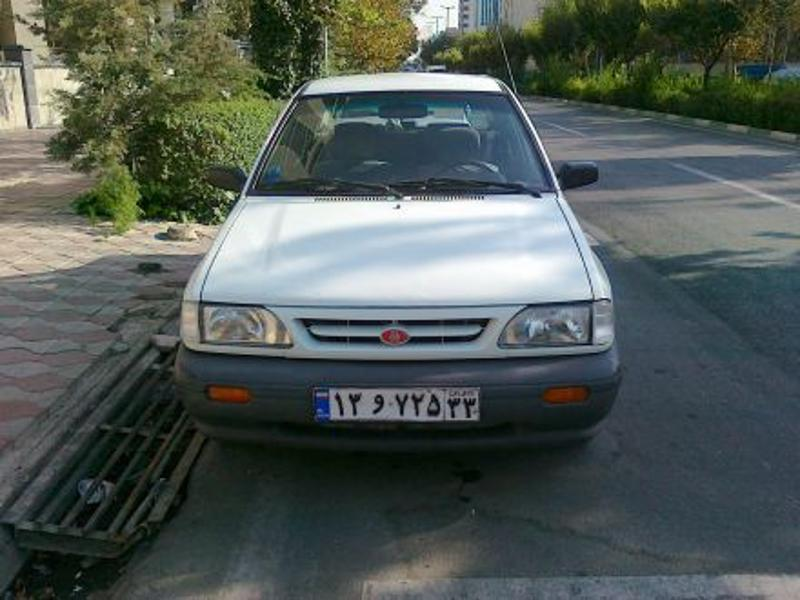Plate: (314, 387, 480, 419)
